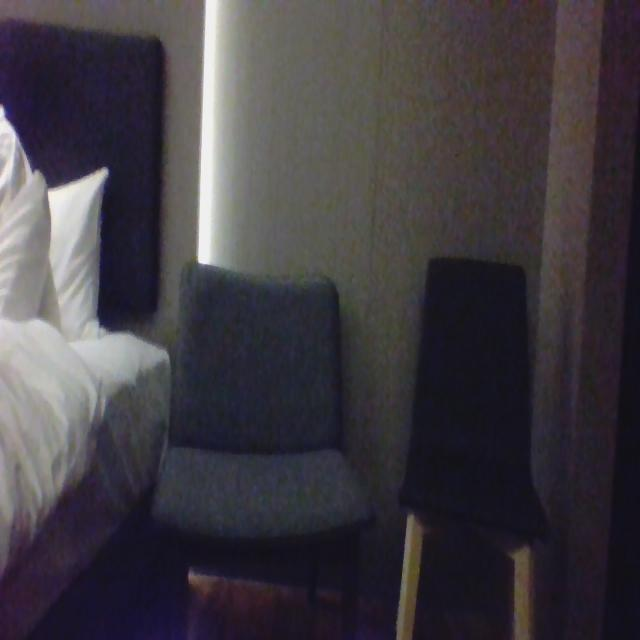empty: (164, 267, 360, 533), (406, 258, 534, 516)
